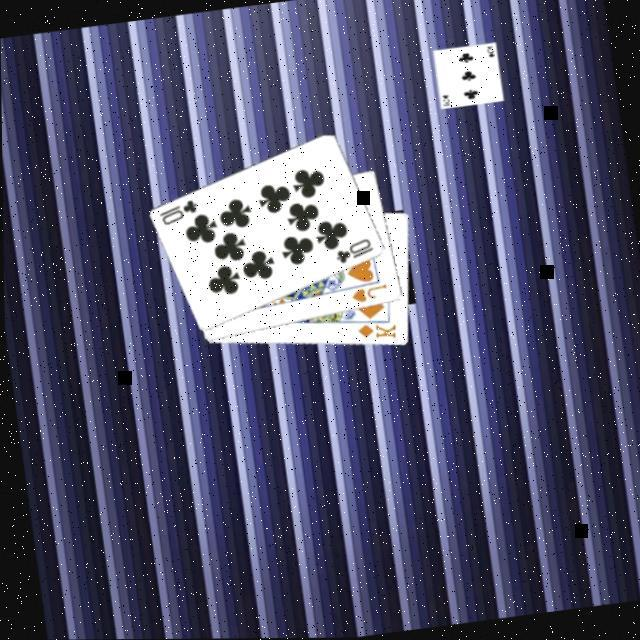10C: (330, 232, 377, 265), (154, 194, 201, 227)
JH: (347, 278, 390, 305)
KD: (353, 315, 399, 343)
